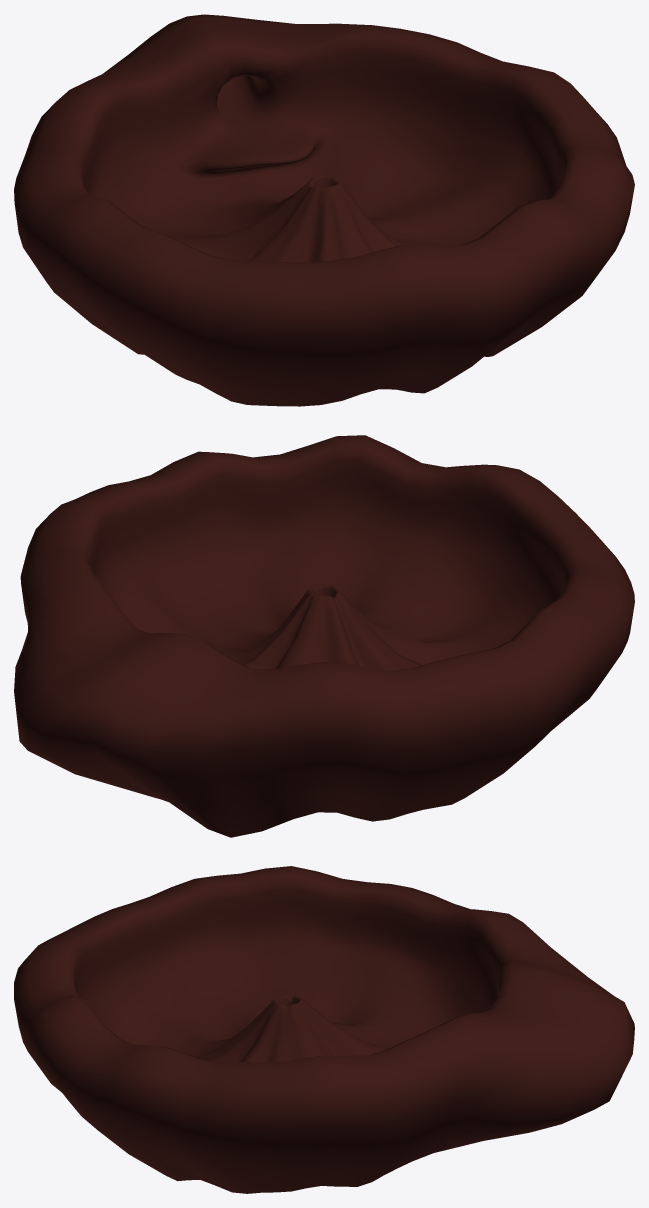
File: caldera.fbx
3 views of the same model, one above another, from view 1: azimuth 30°, elevation 25°; view 2: azimuth 150°, elevation 25°; view 3: azimuth 270°, elevation 25° (orthographic). The views are drawn at different scales.
Visible parts, largest first — view 1: caldera; view 2: caldera; view 3: caldera.
Part boxes in pixels (box(x1,y1,x2,y2)): caldera: box(14, 14, 634, 406); caldera: box(14, 435, 634, 837); caldera: box(14, 866, 634, 1193).
Size of the model in its own units: 295 by 104 by 330.
